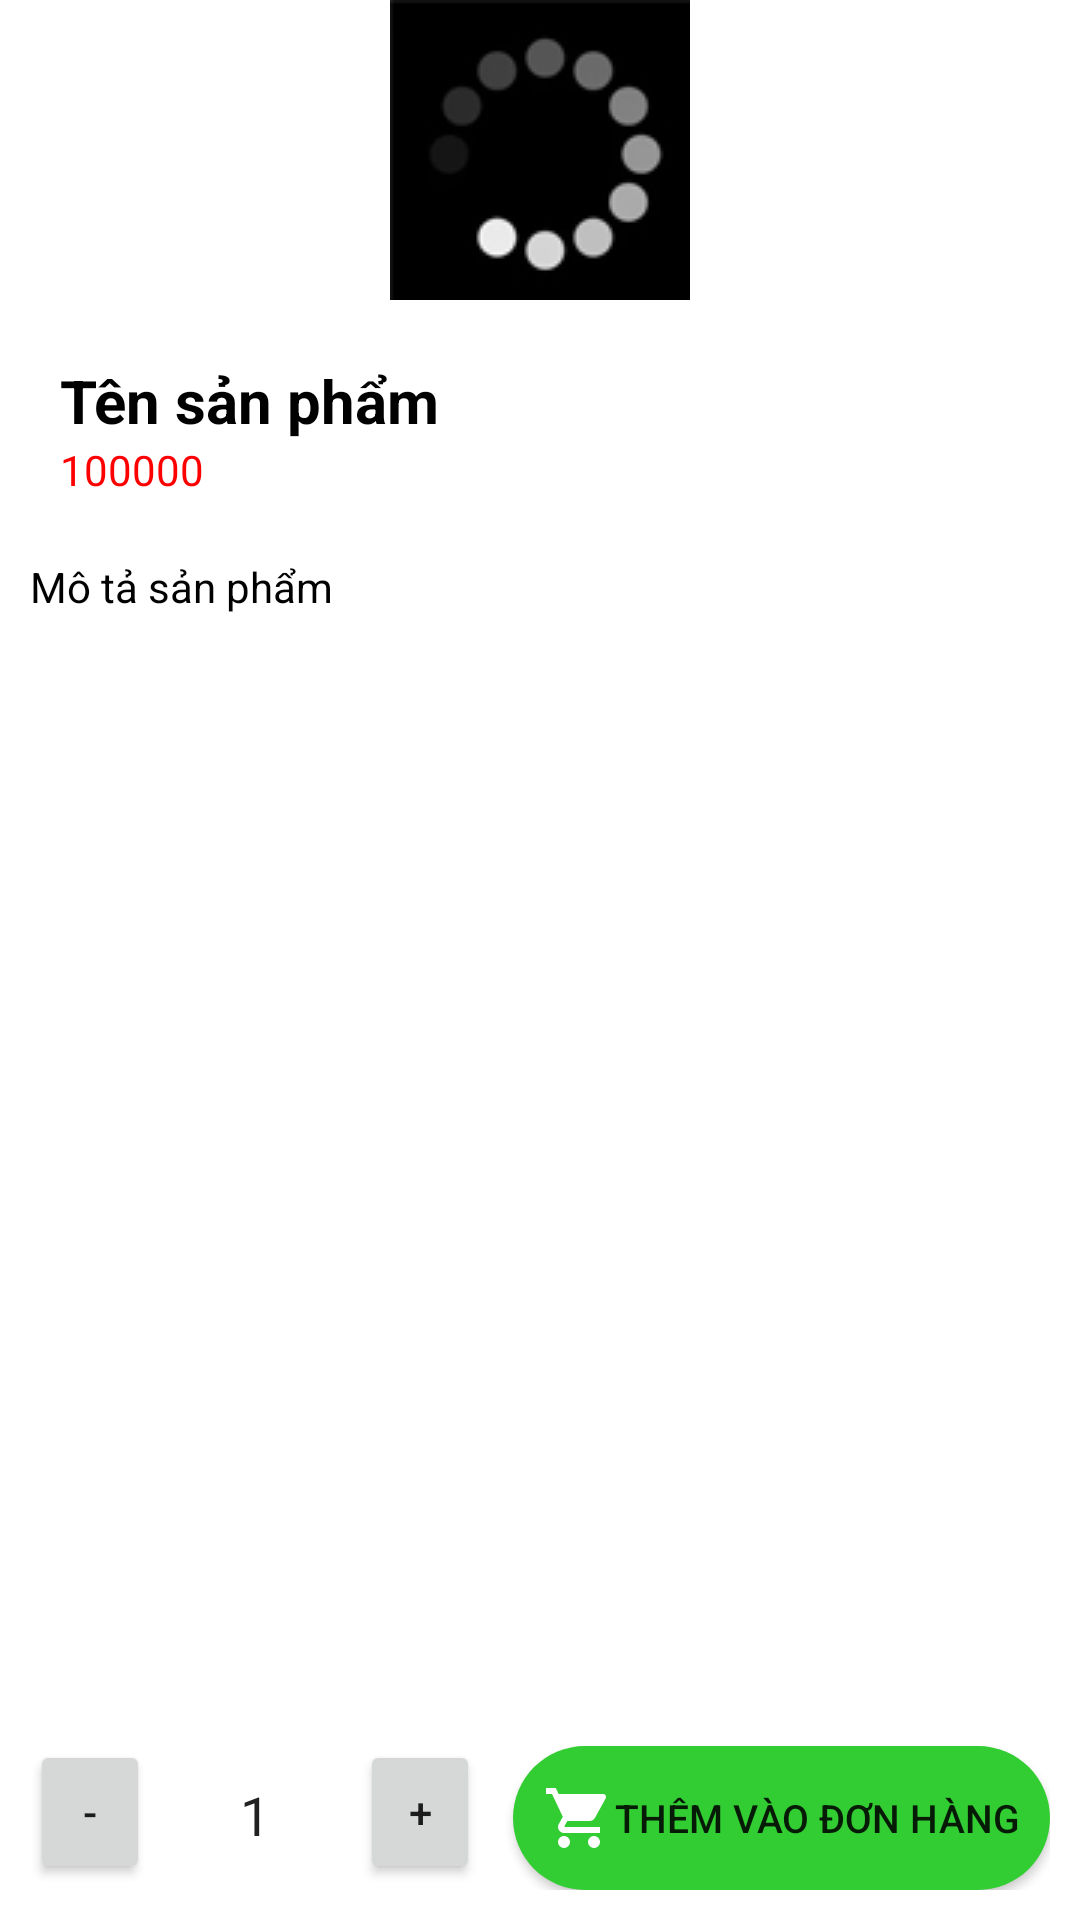

Icon bounding boxes for this 1080 x 1920 phone screenshot, format bbox=(x1, y1, x2, y2):
loading: bbox=(390, 0, 690, 300)
